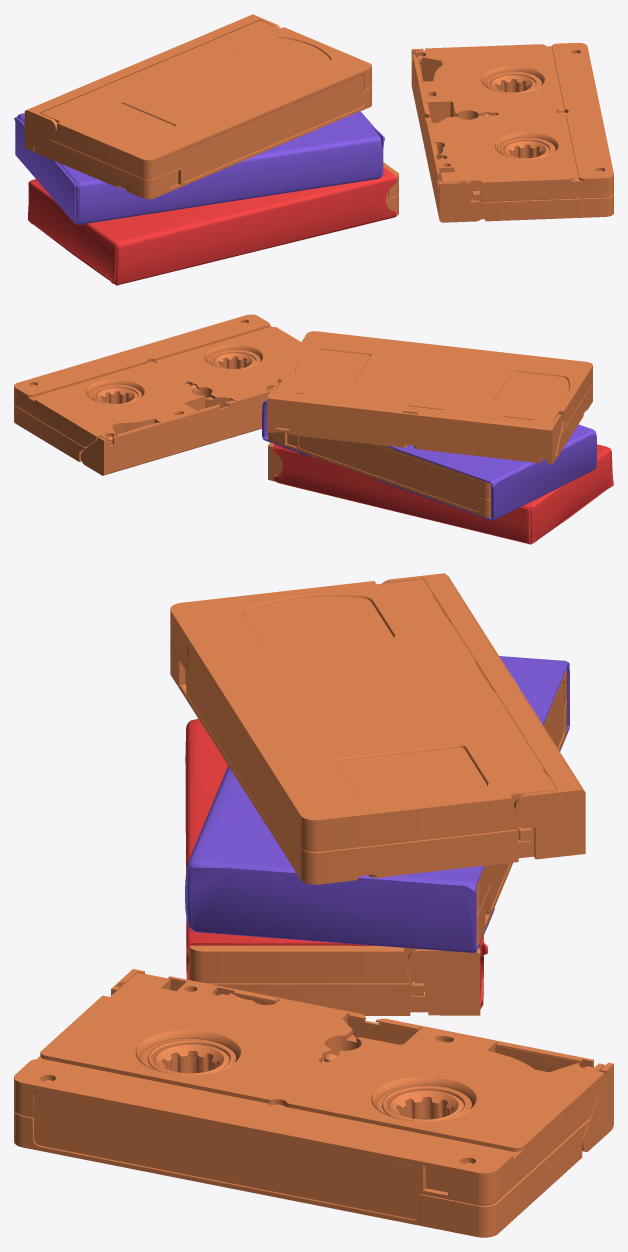
The model's file is vhsCasettes.fbx.
3 views of the same model, one above another, from view 1: azimuth 30°, elevation 25°; view 2: azimuth 150°, elevation 25°; view 3: azimuth 270°, elevation 25° (orthographic). The views are drawn at different scales.
Parts seen in each view (by area): view 1: Plane008; view 2: Plane008; view 3: Plane008.
Part boxes in pixels (box(x1,y1,x2,y2)): Plane008: box(14, 14, 613, 285); Plane008: box(14, 314, 613, 544); Plane008: box(14, 573, 613, 1237).
Size of the model in its own units: 0.3845 by 0.0794 by 0.2106.
